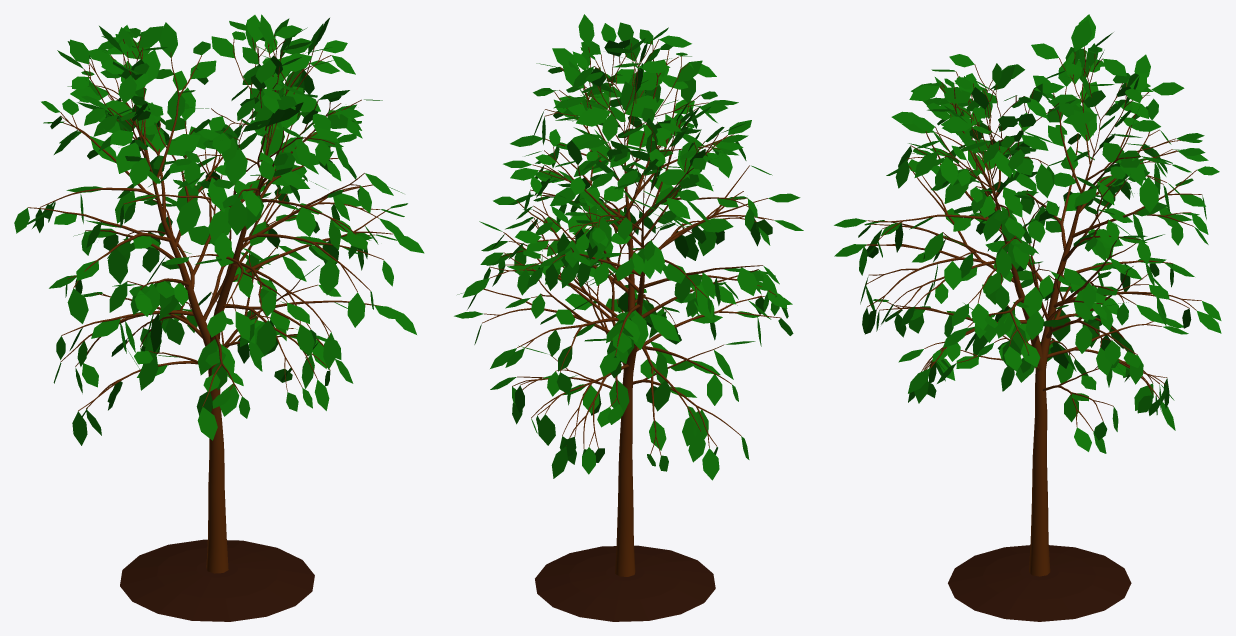
Rendered from TreeStage5.glb.
3 renders of one model, left to right at view 1: azimuth 30°, elevation 25°; view 2: azimuth 150°, elevation 25°; view 3: azimuth 270°, elevation 25°, orthographic. The views are drawn at different scales.
Visible parts, largest first — view 1: leaves.001, stage3, Cone; view 2: leaves.001, stage3, Cone; view 3: leaves.001, stage3, Cone.
Part boxes in pixels (x1,y1,x2,y2): leaves.001: (14, 14, 424, 445); stage3: (27, 34, 393, 573); Cone: (120, 539, 314, 621); leaves.001: (454, 14, 803, 480); stage3: (482, 39, 780, 576); Cone: (535, 545, 715, 621); leaves.001: (834, 14, 1221, 453); stage3: (865, 46, 1202, 576); Cone: (948, 545, 1131, 621).
Bounding box in the file's own units: 1.93 × 2.99 × 1.98.
